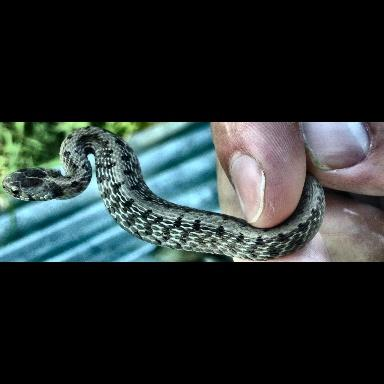snake: (2, 127, 325, 261)
